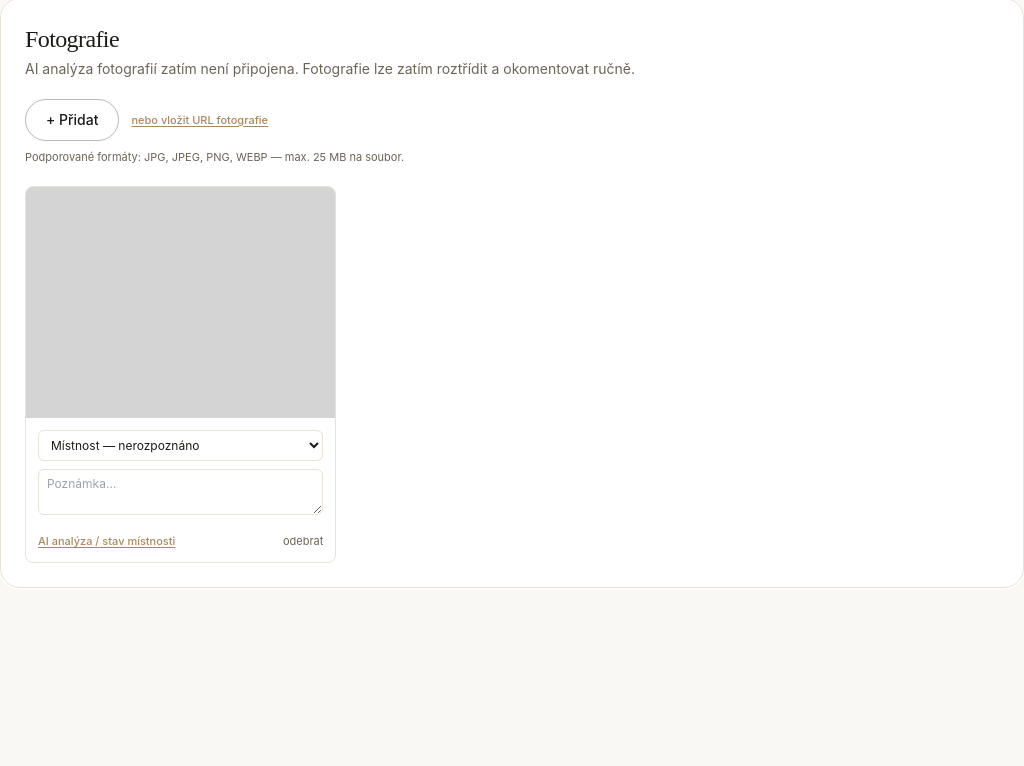
Test: PhotosGallery — 'Vygenerovat vizualizaci' only shown when Gemini is actually connected › hides the generate button when the image-gen provider is PENDING_ACCESS
The image size is (1024, 766).
Click the button "AI analýza / stav místnosti": (107, 542) top-left (38, 534), bottom-right (175, 550)
(page scrolled)
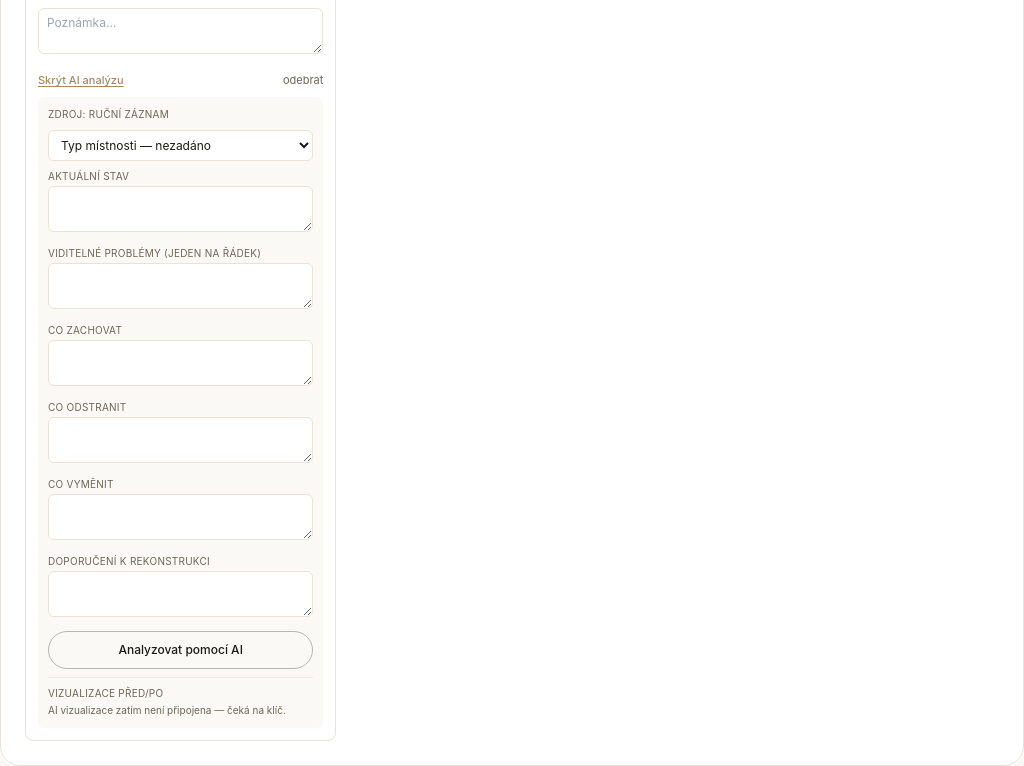
Result: the text "AI vizualizace zatím není připojena — čeká na klíč." is shown at top-left (48, 703), bottom-right (313, 718)
